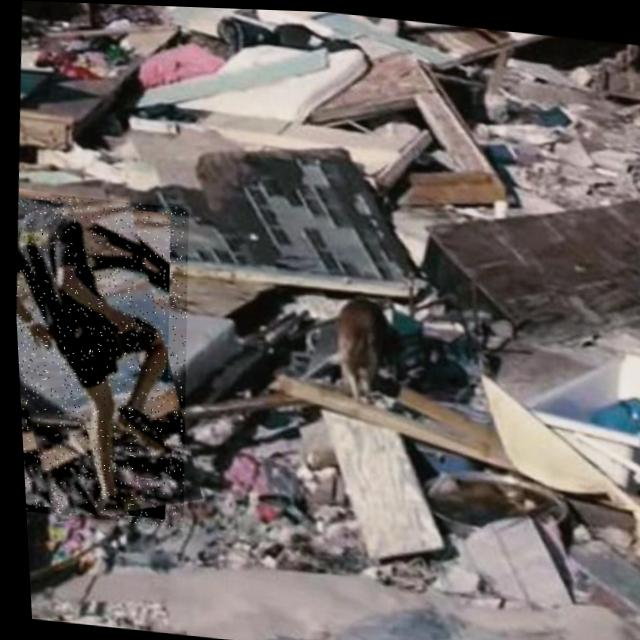Person in Rubble: (8, 190, 199, 527)
